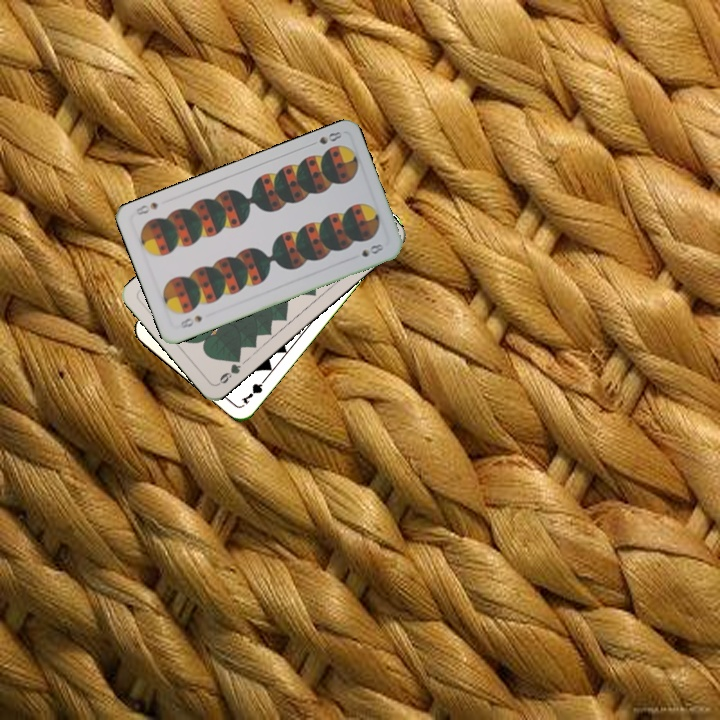G7: (237, 373, 270, 407)
G9: (214, 352, 243, 387)
S8: (305, 127, 345, 149), (174, 311, 205, 331)
